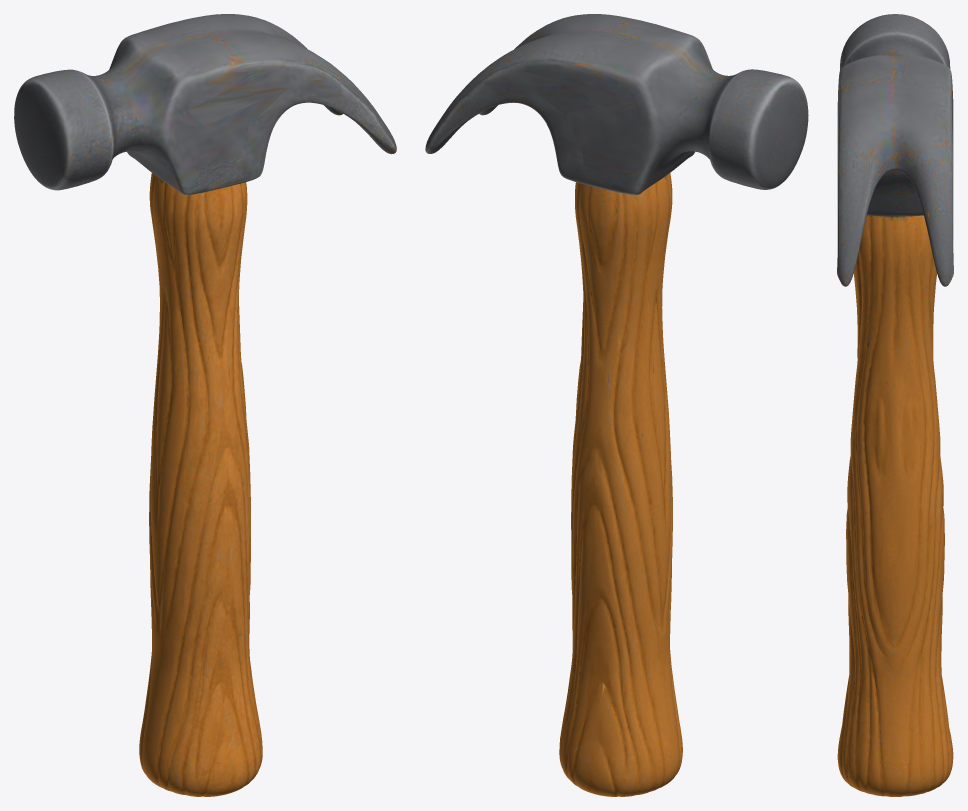
3 views of the same model, side by side, from view 1: azimuth 30°, elevation 25°; view 2: azimuth 150°, elevation 25°; view 3: azimuth 270°, elevation 25° (orthographic). The views are drawn at different scales.
Size of the model in its own units: 0.8902 by 1.9 by 0.2852.
Materials: 1 (1 with a texture image).
